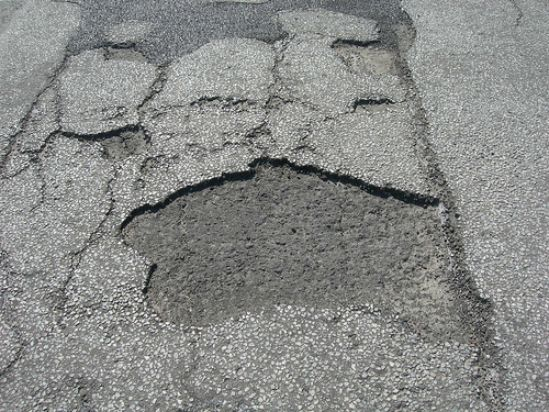pothole: (116, 155, 497, 344), (70, 119, 155, 155)
